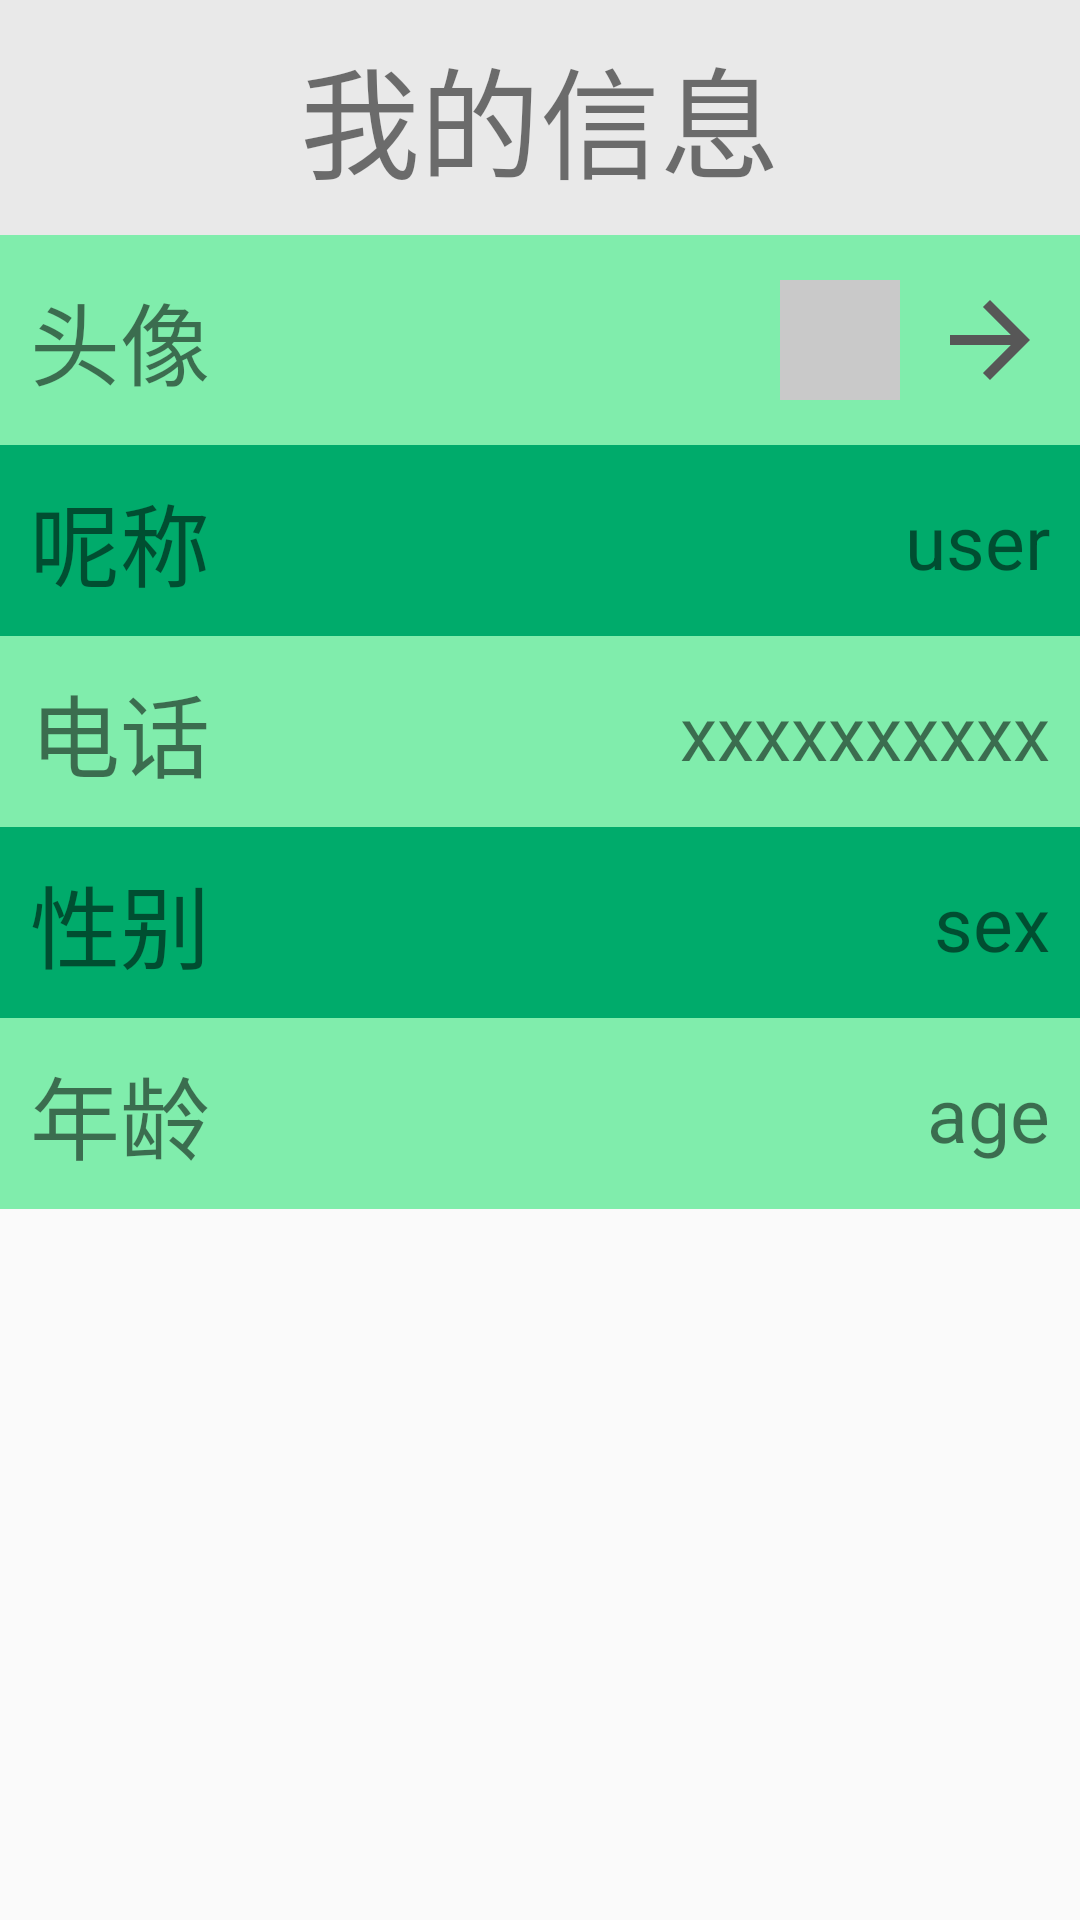

Locate icon controls on the screen. Image size 1080px×1920px, boxes as box(x1, y1, x2, y2).
forward: box(950, 300, 1030, 380)
